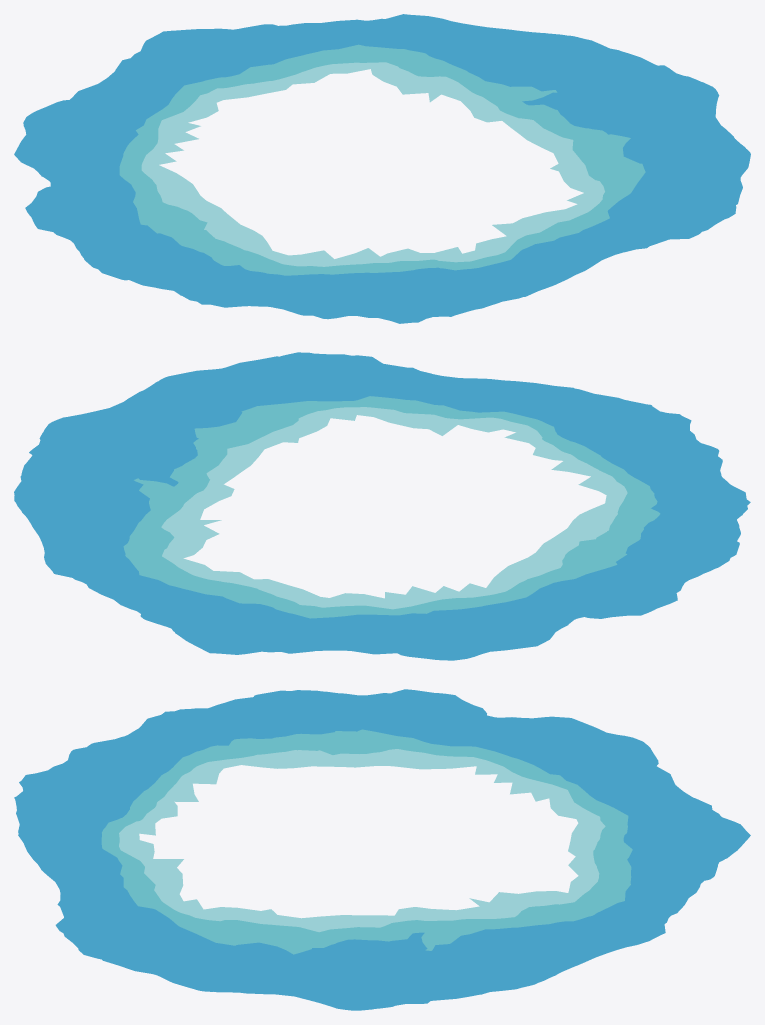
Rendered from Isl-islet1-Water.fbx.
3 views of the same model, one above another, from view 1: azimuth 30°, elevation 25°; view 2: azimuth 150°, elevation 25°; view 3: azimuth 270°, elevation 25° (orthographic).
Parts seen in each view (by area): view 1: Isl-islet1-Water; view 2: Isl-islet1-Water; view 3: Isl-islet1-Water.
Boxes of the visible parts, bbox=[...] form: Isl-islet1-Water: bbox=[14, 14, 750, 323]; Isl-islet1-Water: bbox=[14, 352, 750, 660]; Isl-islet1-Water: bbox=[14, 689, 750, 1010].
Bounding box in the file's own units: 38.57 × 0 × 37.36.
